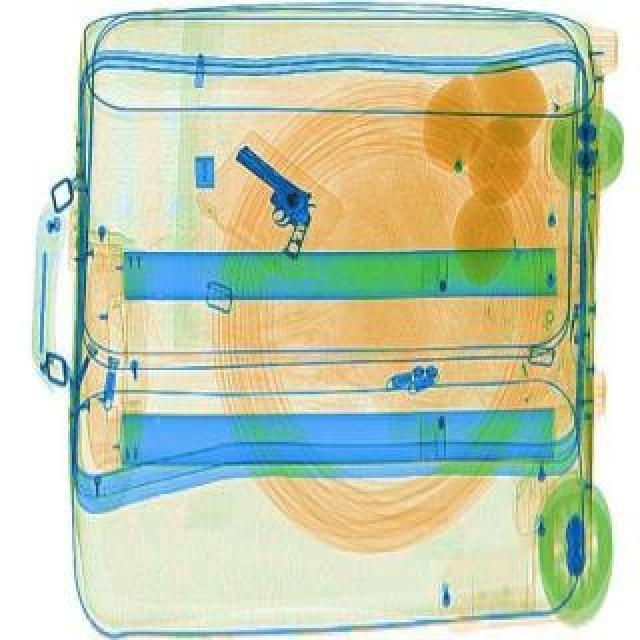gun: (206, 150, 338, 262)
